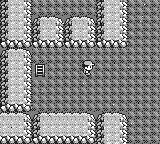main: (82, 61, 95, 76)
no-caminable: (33, 115, 100, 143), (1, 51, 31, 112), (96, 0, 127, 47), (1, 0, 31, 48), (64, 18, 96, 47), (1, 115, 32, 143), (33, 19, 64, 47), (39, 110, 88, 118), (96, 115, 104, 143), (0, 109, 26, 117), (6, 44, 26, 54), (120, 115, 127, 143), (38, 14, 60, 22), (103, 111, 122, 118), (70, 15, 92, 21), (6, 0, 24, 4), (102, 0, 121, 3)
puerta: (35, 64, 45, 76)
